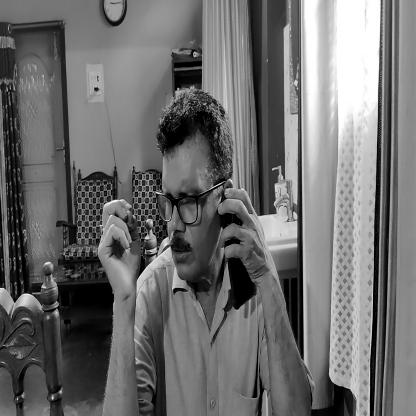Distracted: (153, 92, 232, 293)
